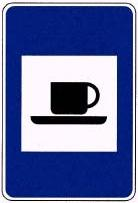cafe: (0, 2, 138, 203)
